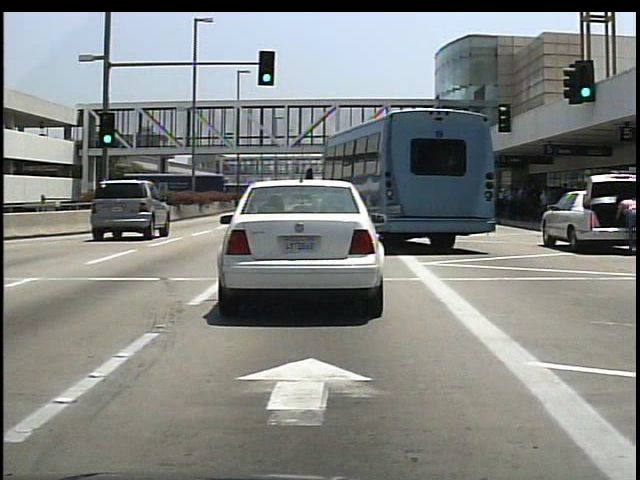person: (612, 191, 639, 254)
